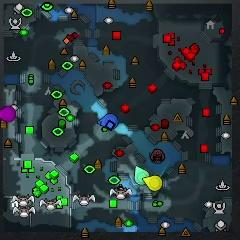p1: (98, 113, 119, 128)
p2: (135, 165, 151, 184)
p3: (0, 106, 16, 123)
p4: (142, 175, 163, 191)
